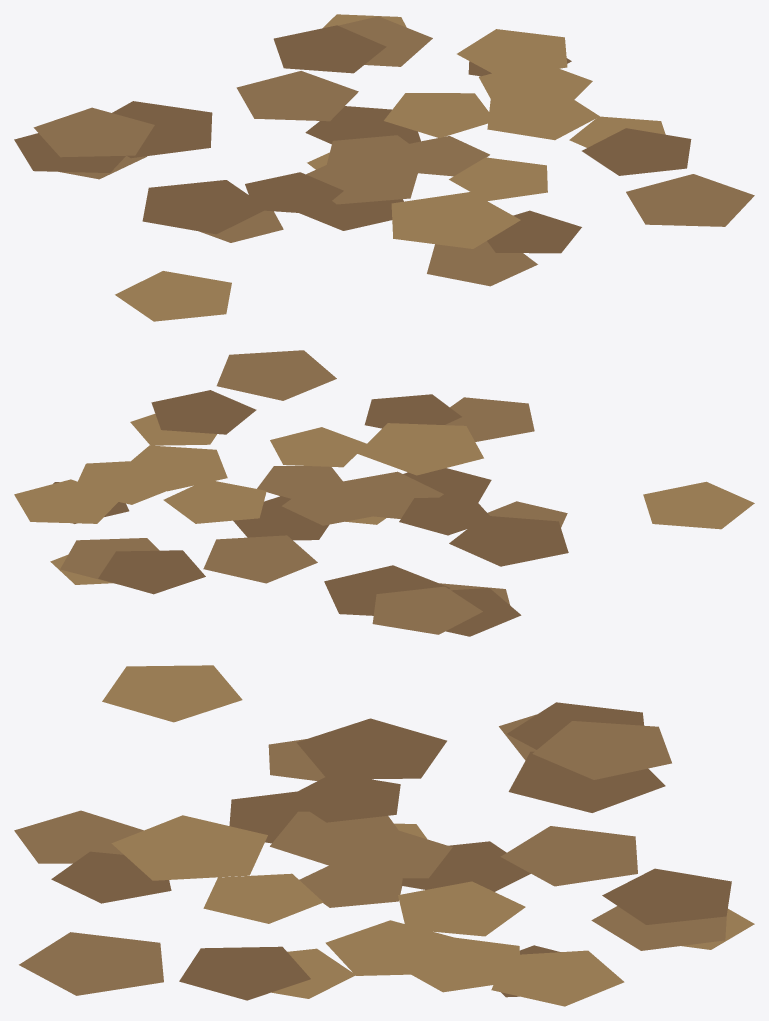
Rendered from ring_litter.glb.
3 renders of one model, top to bottom at view 1: azimuth 30°, elevation 25°; view 2: azimuth 150°, elevation 25°; view 3: azimuth 270°, elevation 25°, orthographic. The views are drawn at different scales.
Visible parts, largest first — view 1: body_nh; view 2: body_nh; view 3: body_nh.
Part boxes in pixels (box(x1,y1,x2,y2)): body_nh: box(14, 14, 754, 321); body_nh: box(14, 350, 754, 636); body_nh: box(14, 665, 754, 1006).
Bounding box in the file's own units: 8.23 × 0.0174 × 7.54.
